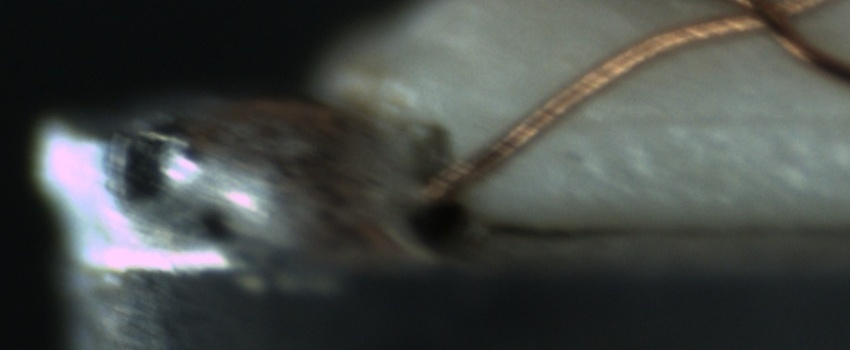CL: (706, 1, 819, 44)
DL: (549, 92, 848, 151)
